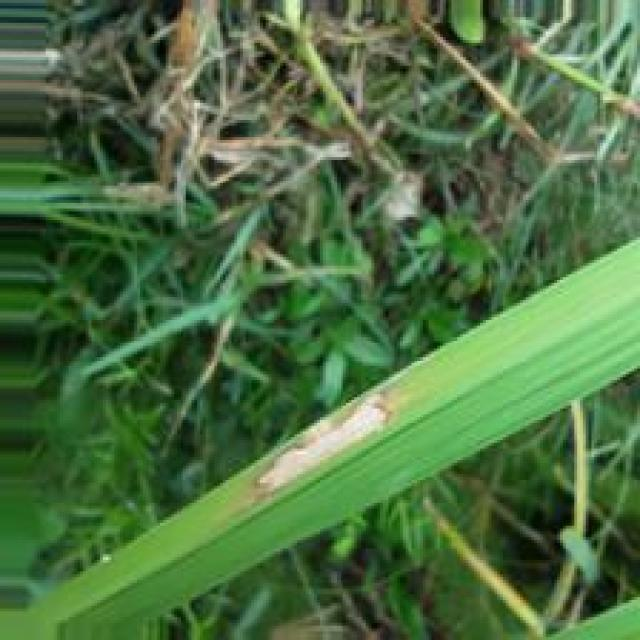Leaf_Blast: (260, 393, 396, 501)
